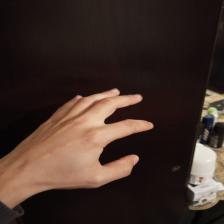five: (48, 85, 158, 192)
